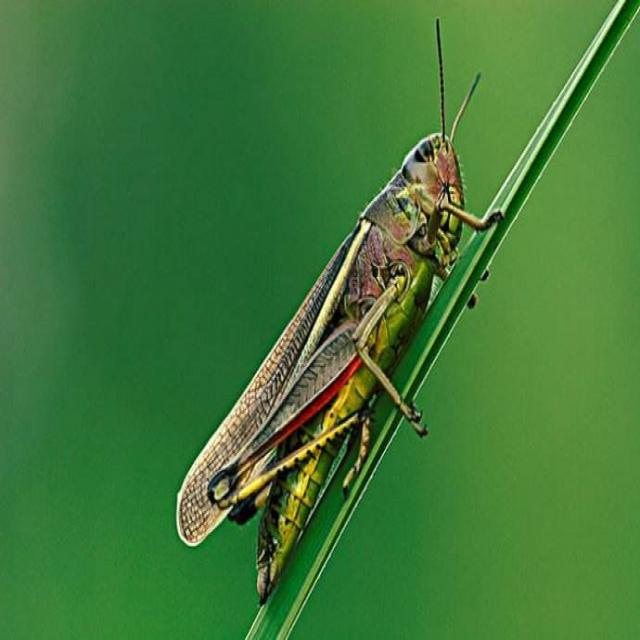ZhaMeng: (140, 98, 511, 622)
